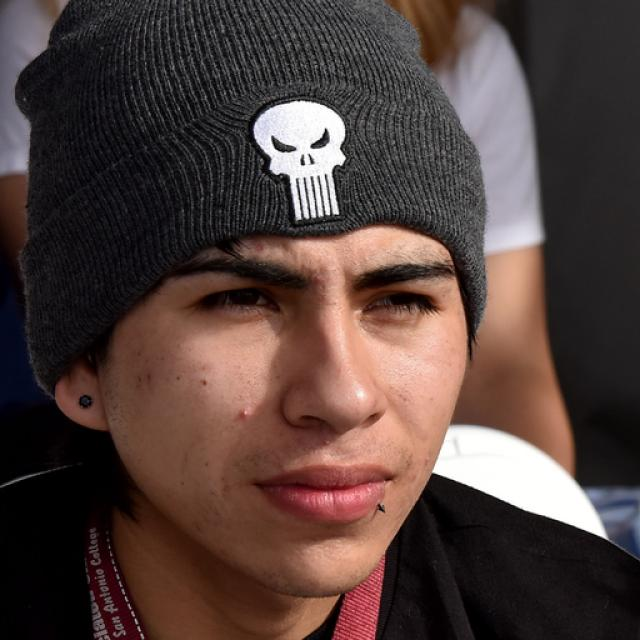Acne: (232, 402, 256, 427), (319, 436, 338, 451), (420, 453, 434, 470)
